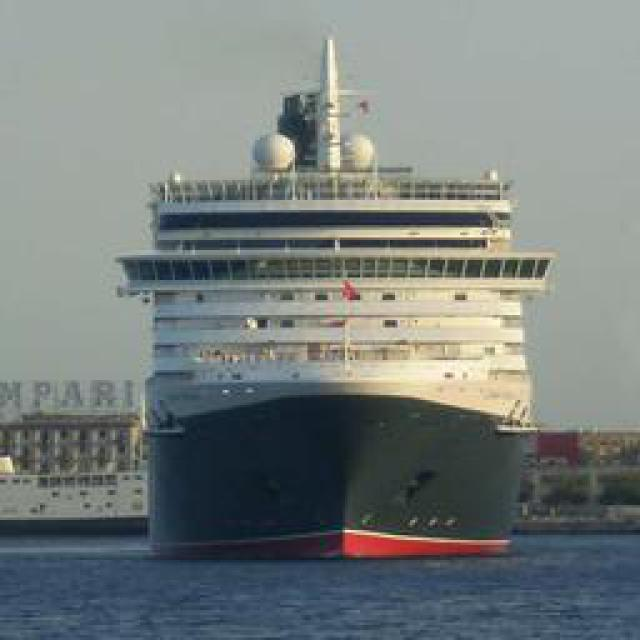Ship: (125, 79, 555, 559)
